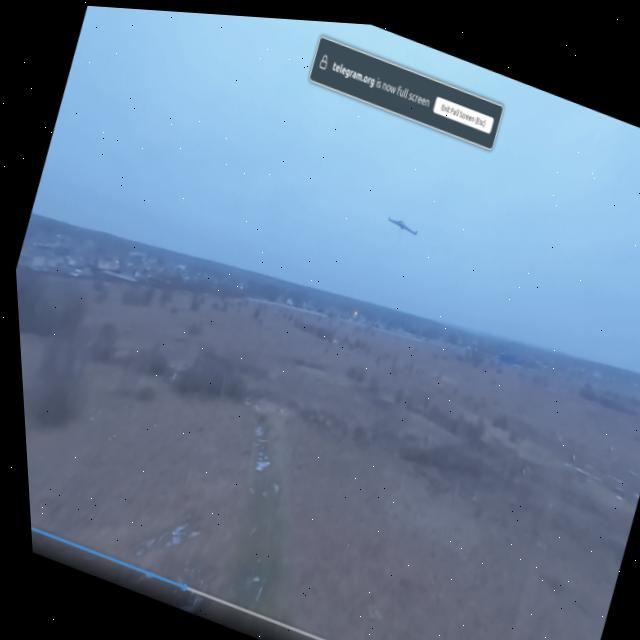planedrone: (382, 209, 423, 242)
